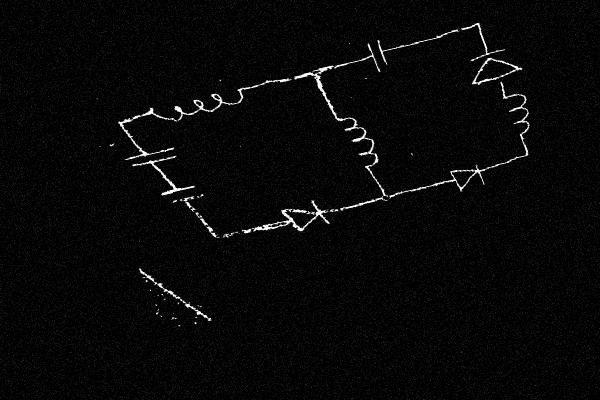capacitor: (120, 140, 184, 174), (153, 177, 209, 213), (359, 35, 399, 77)
diode: (457, 42, 532, 96), (270, 194, 338, 238), (439, 160, 496, 197)
inductor: (131, 81, 259, 131), (323, 101, 388, 178), (493, 85, 544, 145)
